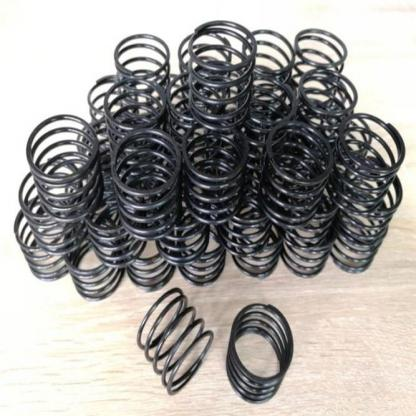FOD: (134, 284, 214, 397), (24, 111, 104, 223), (108, 127, 184, 243), (186, 17, 256, 134), (224, 300, 298, 407), (182, 124, 251, 228)
